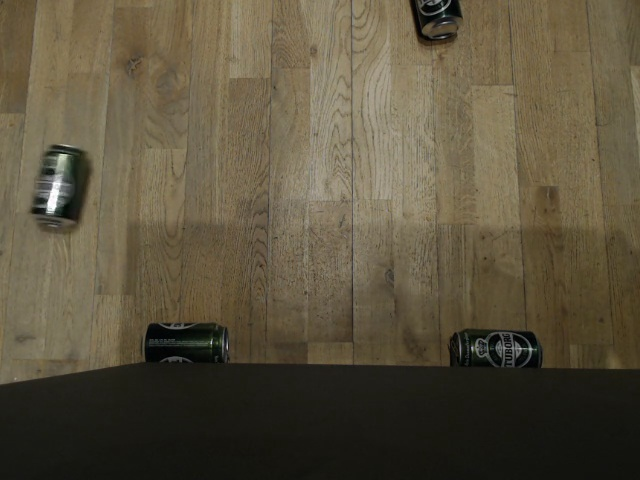beer: (26, 138, 87, 228)
